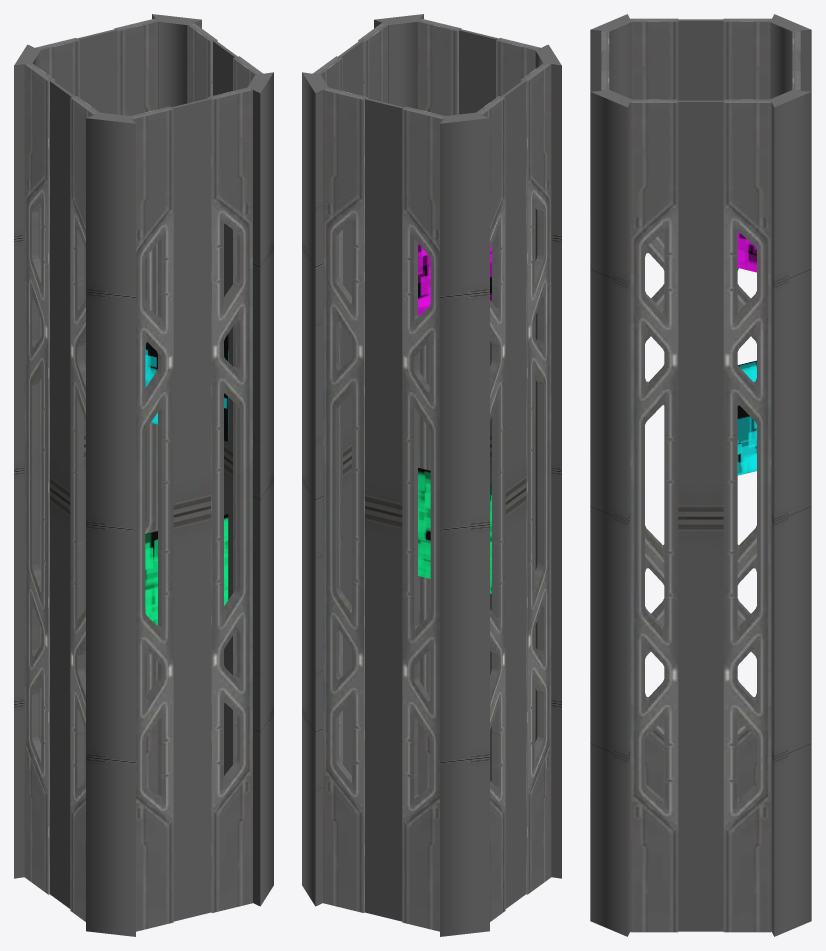
File: sc-ad-pylon-lod1.glb
3 renders of one model, left to right at view 1: azimuth 30°, elevation 25°; view 2: azimuth 150°, elevation 25°; view 3: azimuth 270°, elevation 25°, orthographic.
Visible parts, largest first — view 1: sc-ad-pylon; view 2: sc-ad-pylon; view 3: sc-ad-pylon.
Boxes of the visible parts, x1,y1,x2,y2 form: sc-ad-pylon: (14, 14, 273, 936); sc-ad-pylon: (302, 14, 561, 936); sc-ad-pylon: (590, 14, 811, 936).
Bounding box in the file's own units: 4.35 × 18 × 4.35.
Materials: 5 (5 with a texture image).
